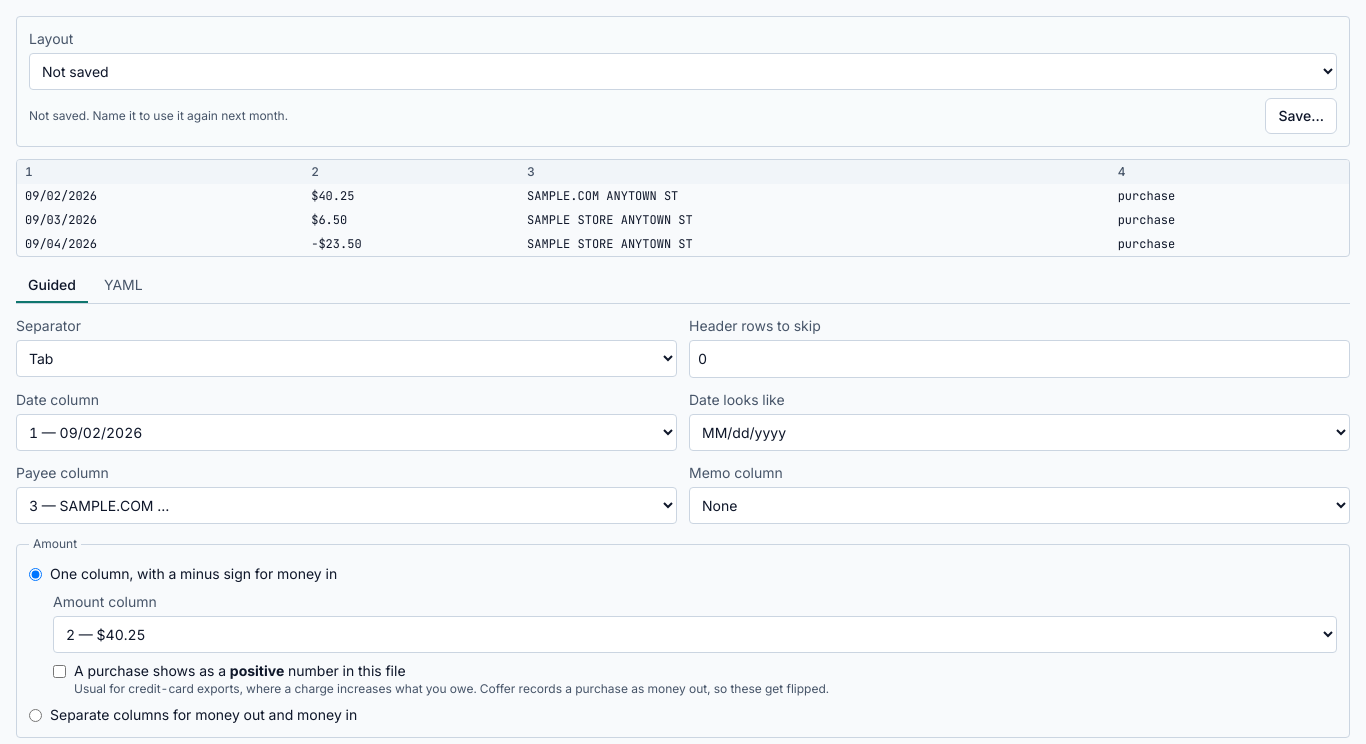
Test case: CsvMappingStep › takes the name warning away with the box it belongs to
Select "Store card statement" in the dropdown labelled "Layout": (683, 72) [29, 53, 1337, 90]
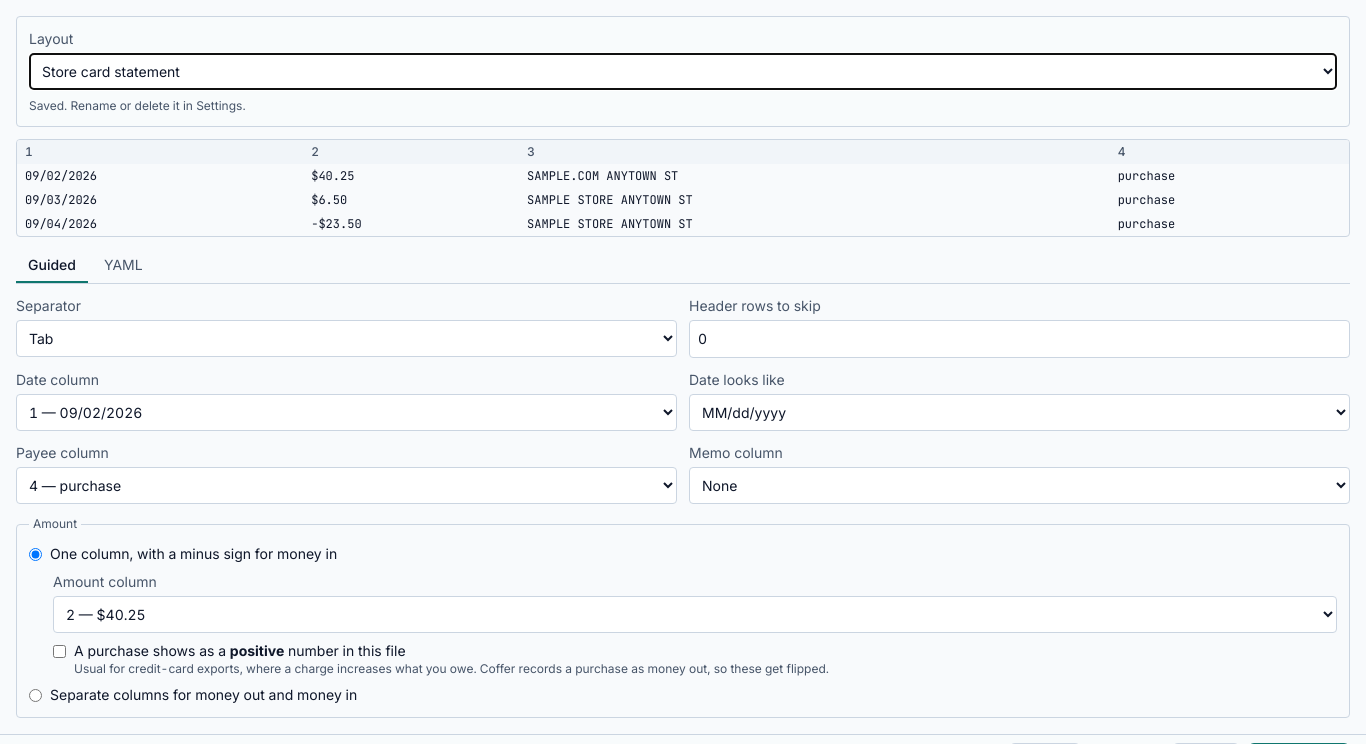
Now the text "Saved. Rename or delete it in Settings." is shown, box [29, 98, 246, 113]
Select "3 — SAMPLE.COM …" in the dropdown labelled "Payee column": (346, 486) [16, 467, 677, 504]
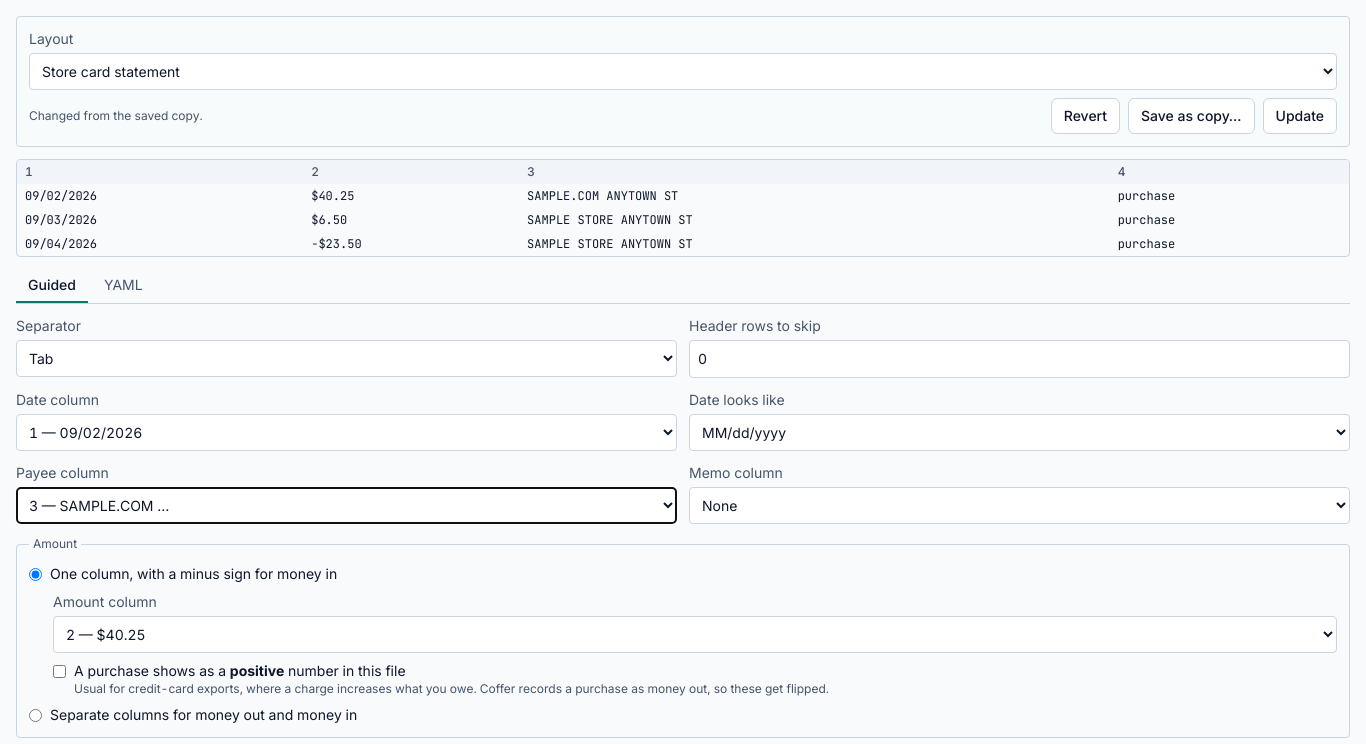
Click the button "Save as copy…": (1191, 116) [1128, 98, 1254, 134]
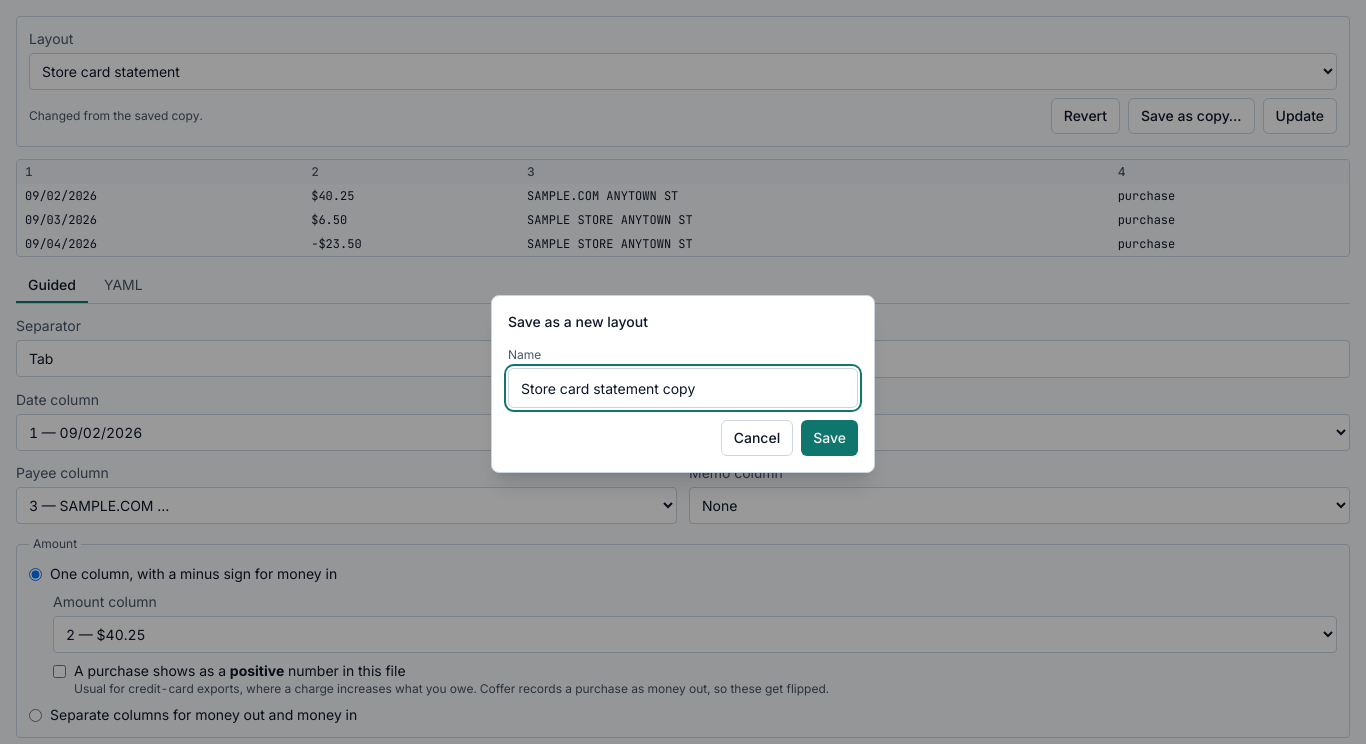
Replace the text in the field labelled "Name" with "Store card statement": (683, 388) [508, 368, 858, 408]
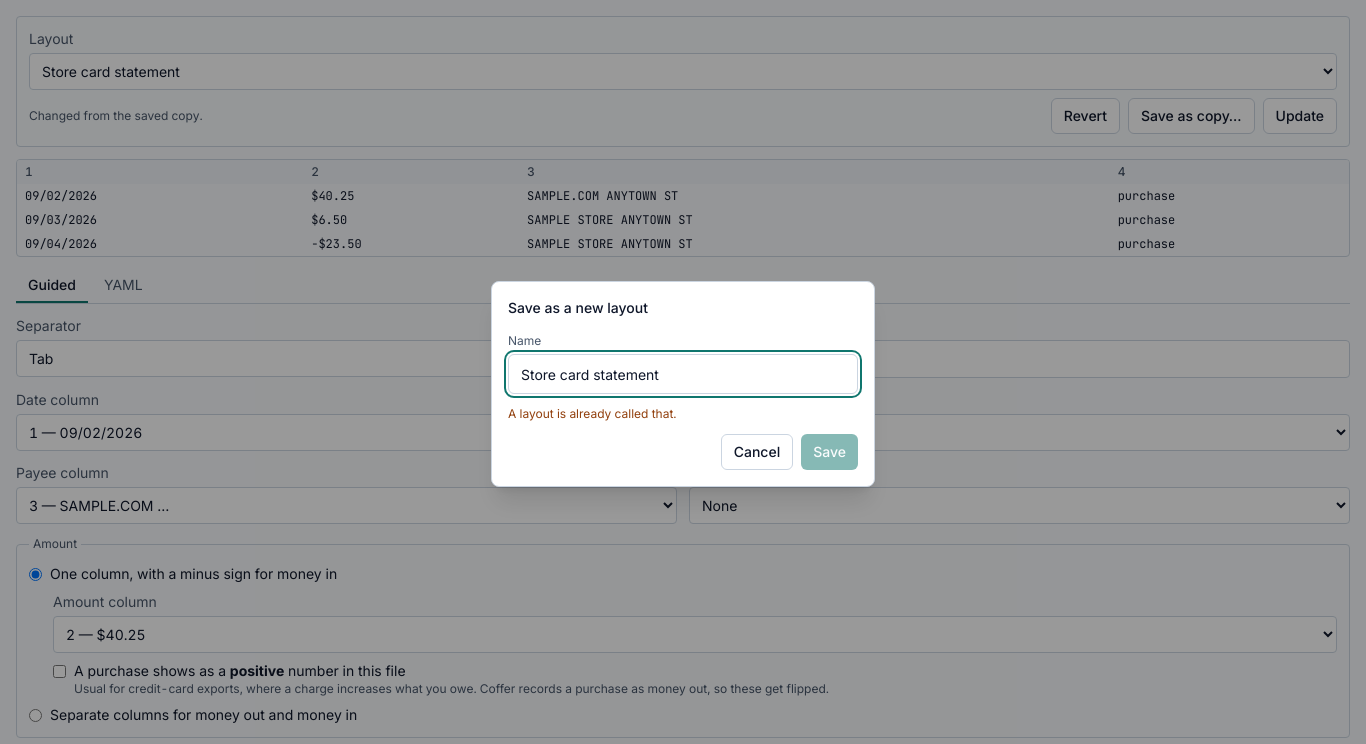
Now the text "A layout is already called that." is shown, box [508, 406, 677, 421]
Note: Scoped: the step's own footer has a Cancel too, sitting behind the backdrop.
Click the button "Cancel": (757, 452) [721, 434, 793, 470]
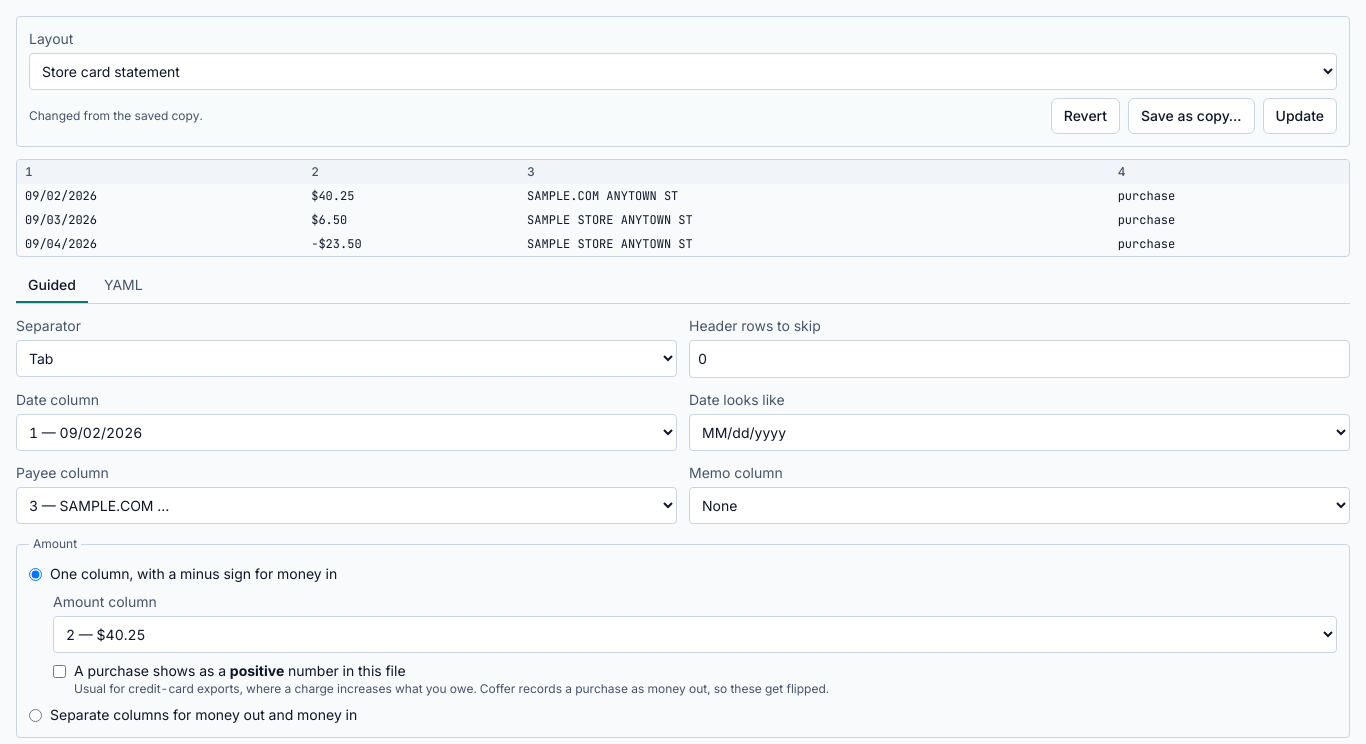
Now the text "Changed from the saved copy." is shown, box [29, 108, 203, 123]
Now the text labelled "Name" is gone
Now the text "already called that" is gone
